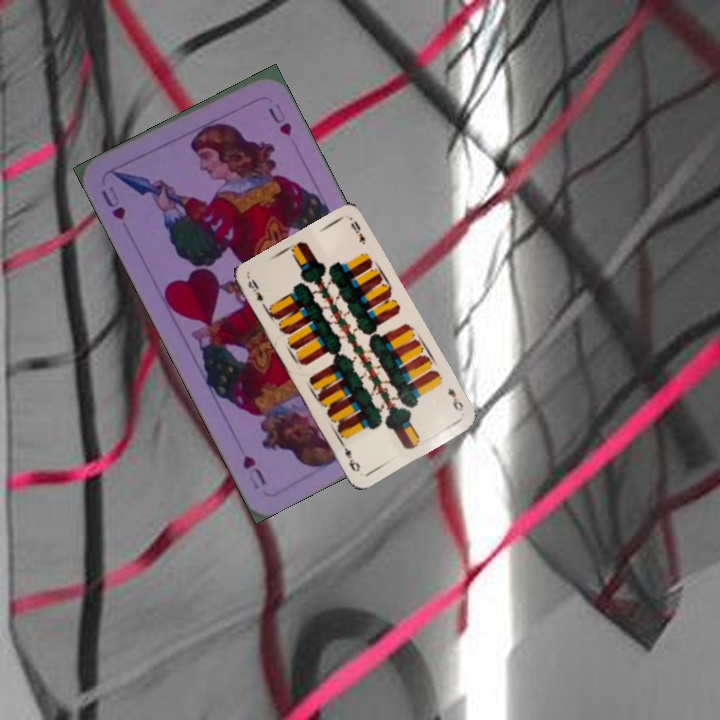E9: (243, 275, 270, 312), (444, 384, 466, 414)
HU: (96, 181, 129, 224)
